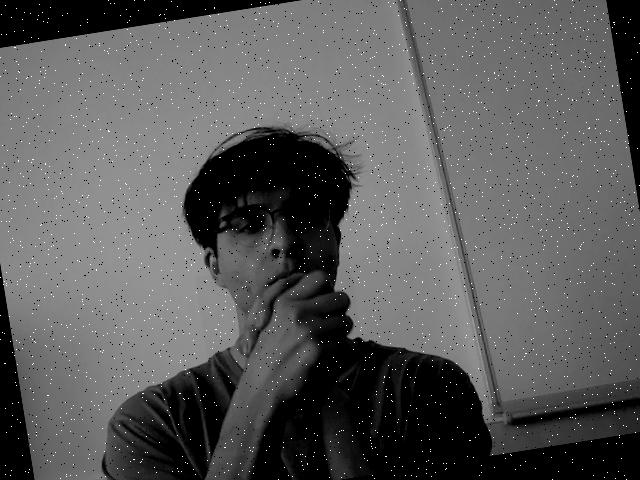friend: (220, 259, 363, 444)
